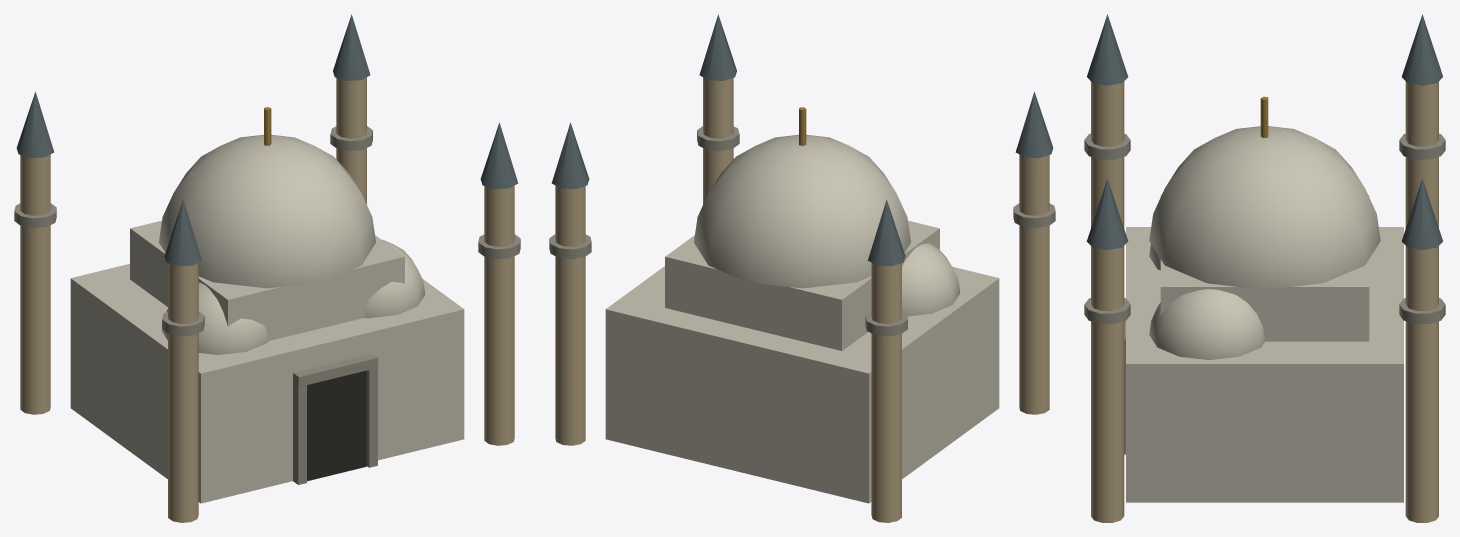
Rendered from custom-wonder-tacmahal.glb.
3 renders of one model, left to right at view 1: azimuth 30°, elevation 25°; view 2: azimuth 150°, elevation 25°; view 3: azimuth 270°, elevation 25°, orthographic. The views are drawn at different scales.
Parts seen in each view (by area): view 1: custom-wonder-tacmahal; view 2: custom-wonder-tacmahal; view 3: custom-wonder-tacmahal.
Part boxes in pixels (bbox=[...]): custom-wonder-tacmahal: bbox=[14, 14, 520, 522]; custom-wonder-tacmahal: bbox=[549, 14, 1055, 522]; custom-wonder-tacmahal: bbox=[1084, 14, 1445, 522].
Size of the model in its own units: 1 by 0.8609 by 0.8341.
